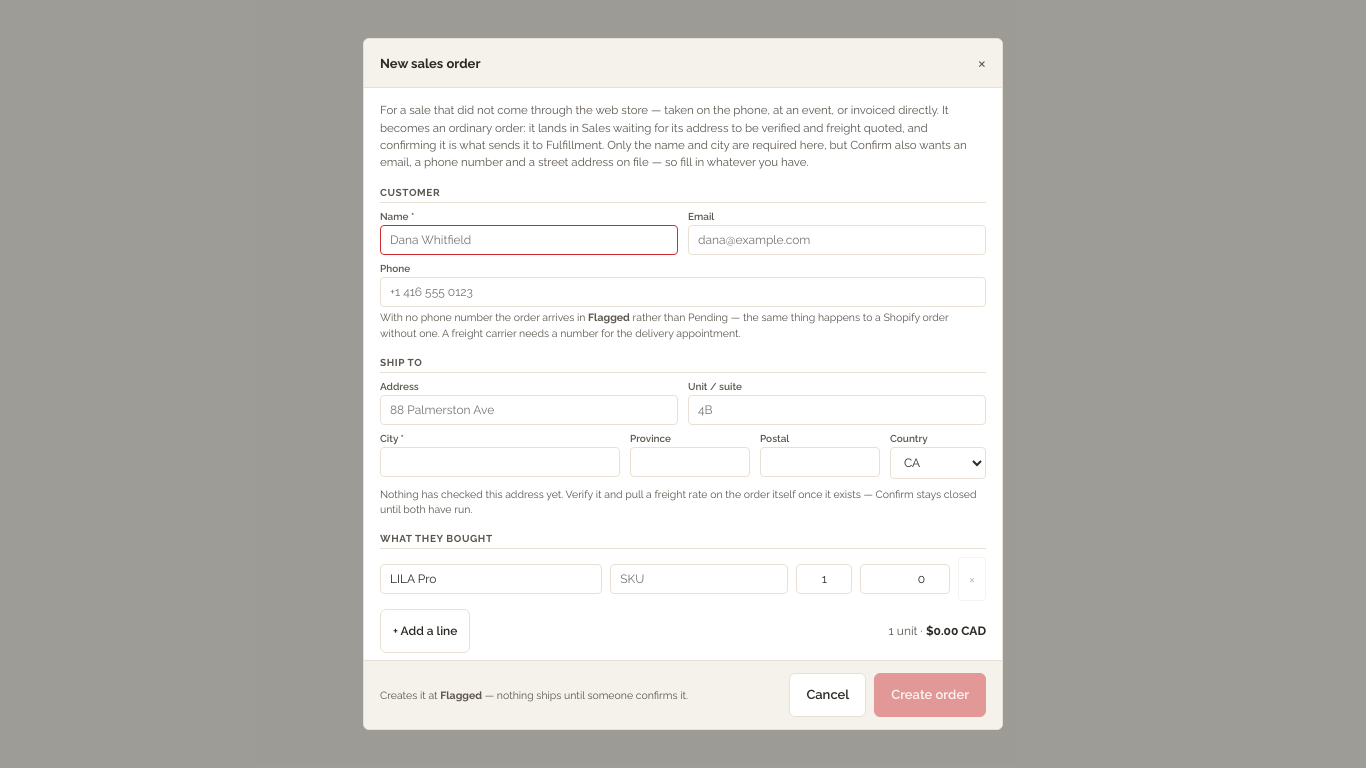
Test: NewOrderForm › warns that an order with no phone number lands in Flagged
This screenshot has width=1366, height=768.
Expected: the text "arrives in" is shown, [380, 311, 588, 323]
Expected: the text "Creates it at" shows "Flagged", [440, 689, 482, 701]
Type "+14165550123" into the field with placeholder "+1 416 555 0123" at x=683, y=292, box [380, 277, 986, 307]
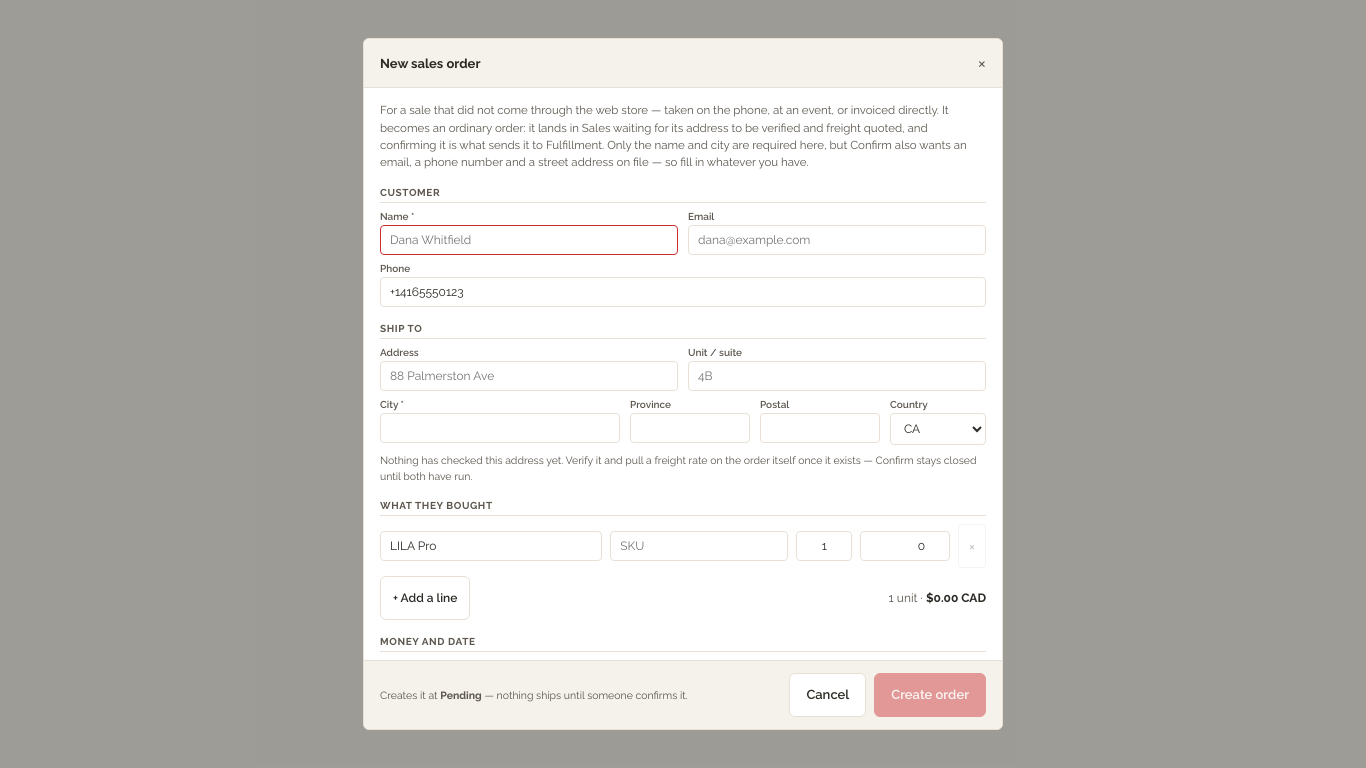
Now the text "Creates it at" shows "Pending", box [440, 689, 482, 701]
